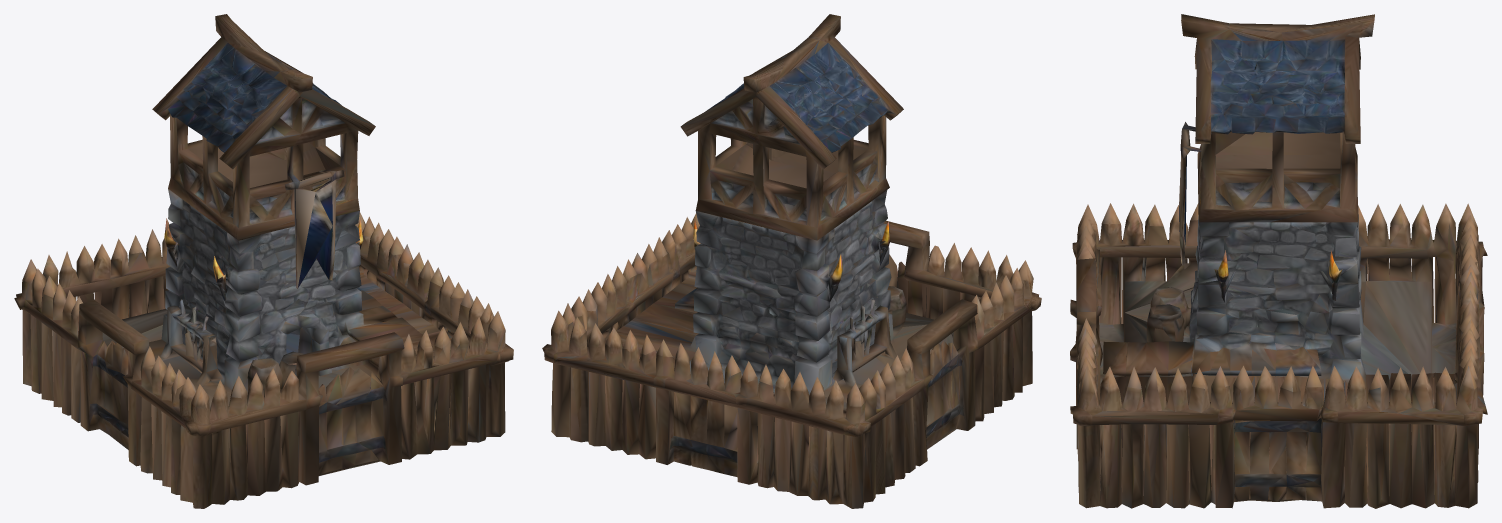
Rendered from landmark_watchfort_lod1.glb.
3 renders of one model, left to right at view 1: azimuth 30°, elevation 25°; view 2: azimuth 150°, elevation 25°; view 3: azimuth 270°, elevation 25°, orthographic. The views are drawn at different scales.
Parts seen in each view (by area): view 1: Mesh_0; view 2: Mesh_0; view 3: Mesh_0.
Boxes of the visible parts, box(x1,y1,x2,y2) form: Mesh_0: box(14, 14, 513, 508); Mesh_0: box(542, 14, 1041, 508); Mesh_0: box(1070, 14, 1487, 508).
Size of the model in its own units: 1.78 by 1.9 by 1.77.
Materials: 1 (1 with a texture image).
